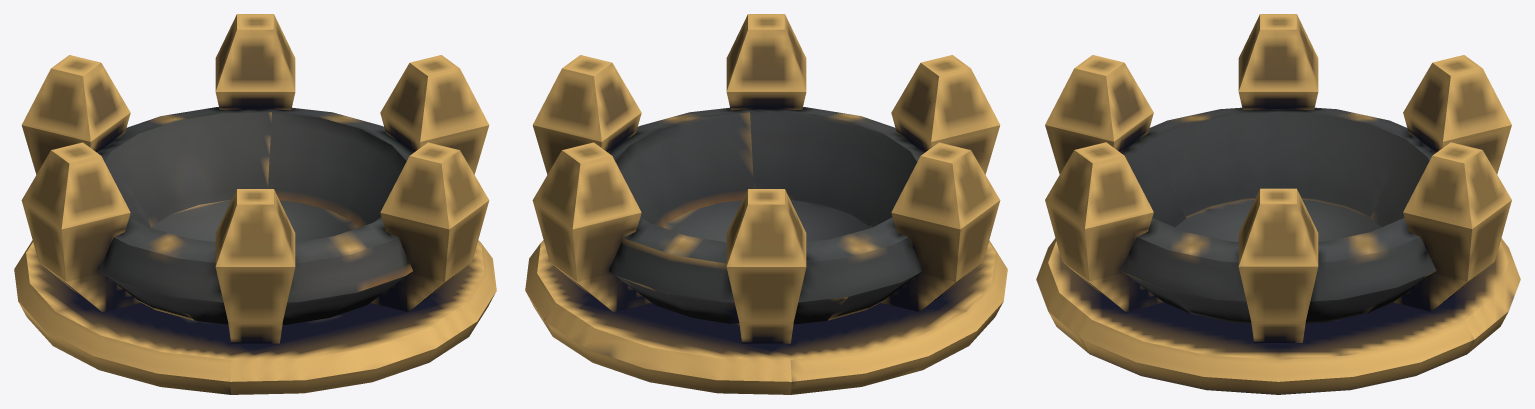
The model's file is Brazier.obj.
3 views of the same model, side by side, from view 1: azimuth 30°, elevation 25°; view 2: azimuth 150°, elevation 25°; view 3: azimuth 270°, elevation 25° (orthographic).
Parts seen in each view (by area): view 1: Brazier; view 2: Brazier; view 3: Brazier.
Boxes of the visible parts, <box> form: Brazier: <box>14,14,496,394</box>; Brazier: <box>525,14,1007,394</box>; Brazier: <box>1036,14,1520,394</box>.
Size of the model in its own units: 0.1564 by 0.0655 by 0.1537.
